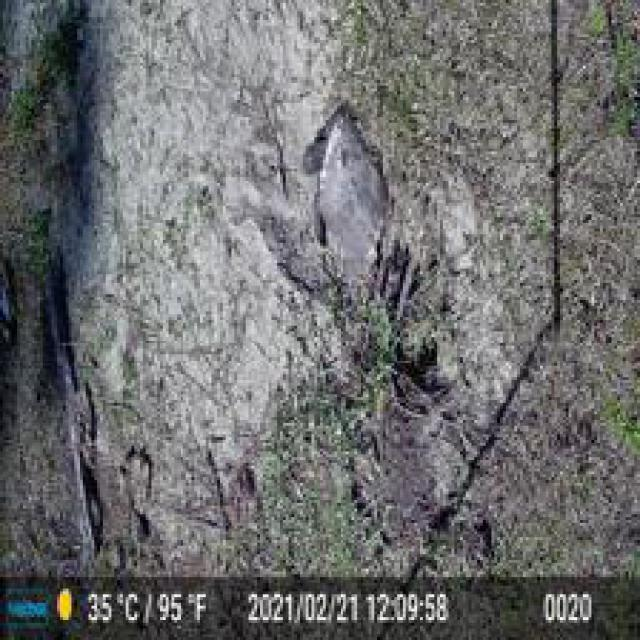tortoise: (303, 111, 391, 280)
